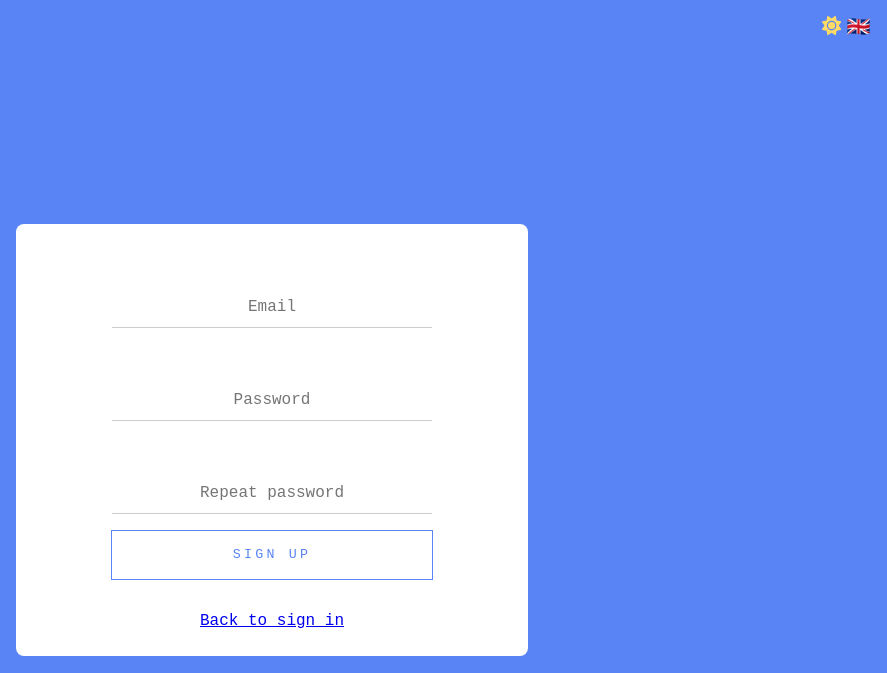
Scenario: SignUpPage › renders the password confirmation validation error
Type "123456" into the password field with placeholder "Password" at point(272, 400), box top-left (112, 380), bottom-right (432, 420)
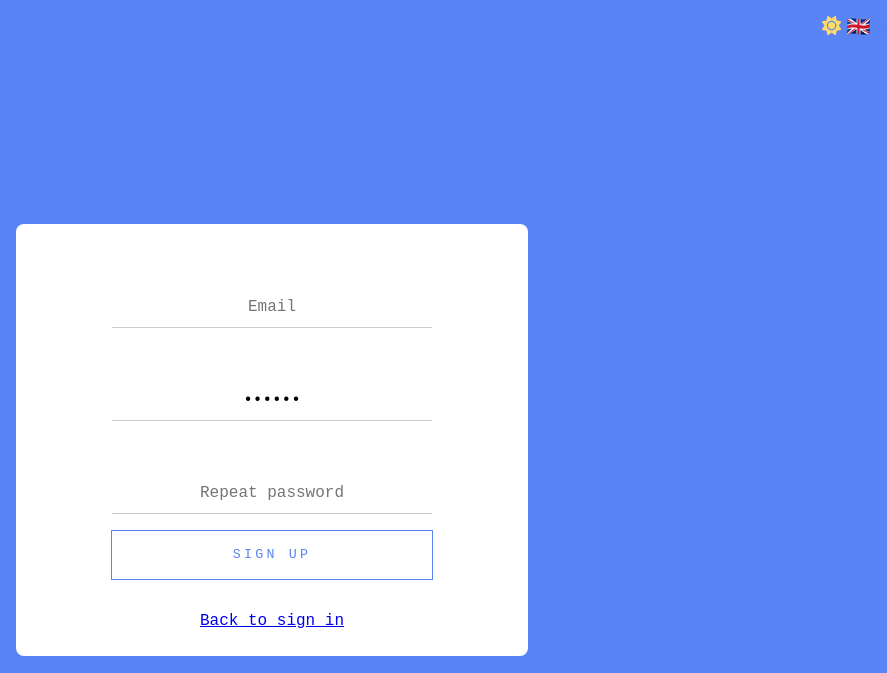
Type "password" into the password field with placeholder "Repeat password" at point(272, 493), box top-left (112, 472), bottom-right (432, 514)
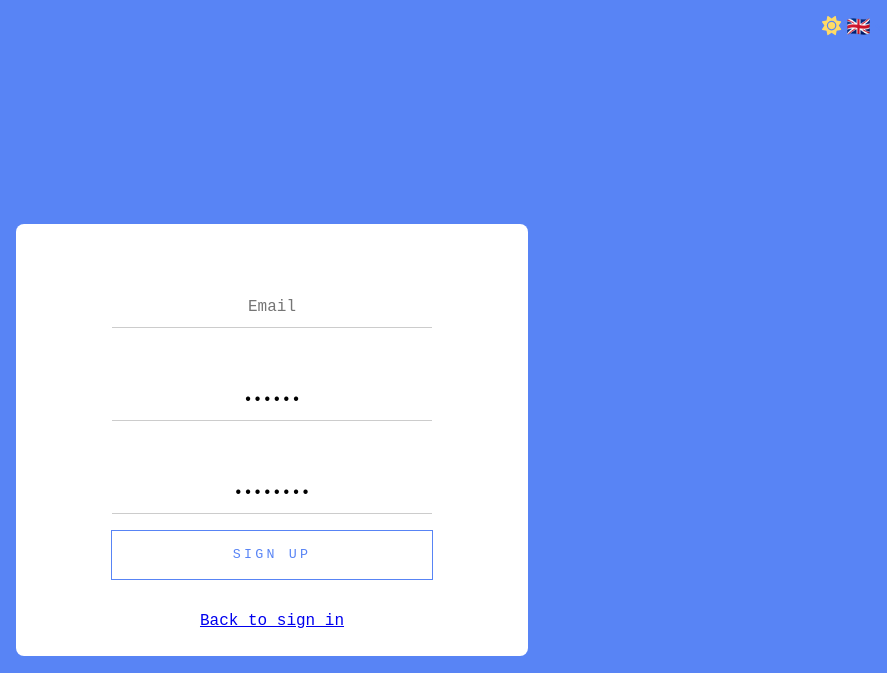
Leave the 2nd password field with placeholder "Repeat password", box top-left (112, 472), bottom-right (432, 514)
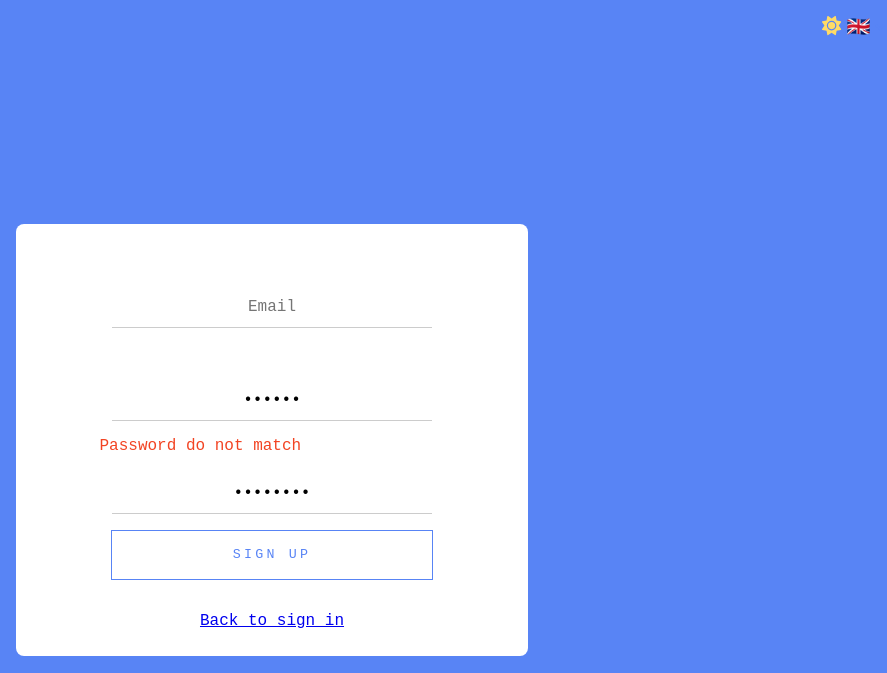
Expected: the text "Password do not match" is shown, top-left (100, 436), bottom-right (301, 454)
